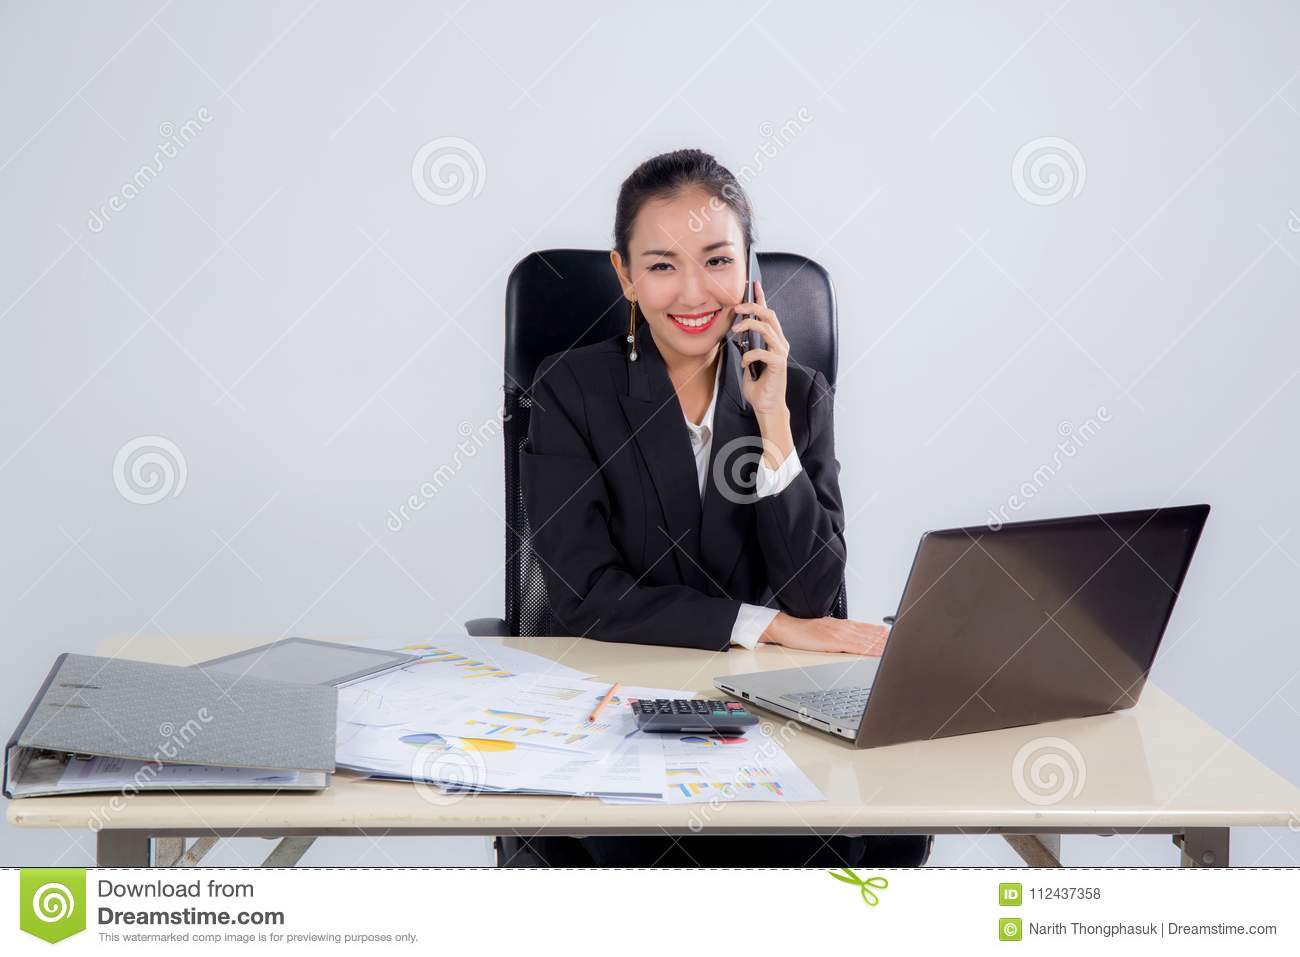phone: (738, 239, 767, 384)
talk: (637, 234, 794, 435)
